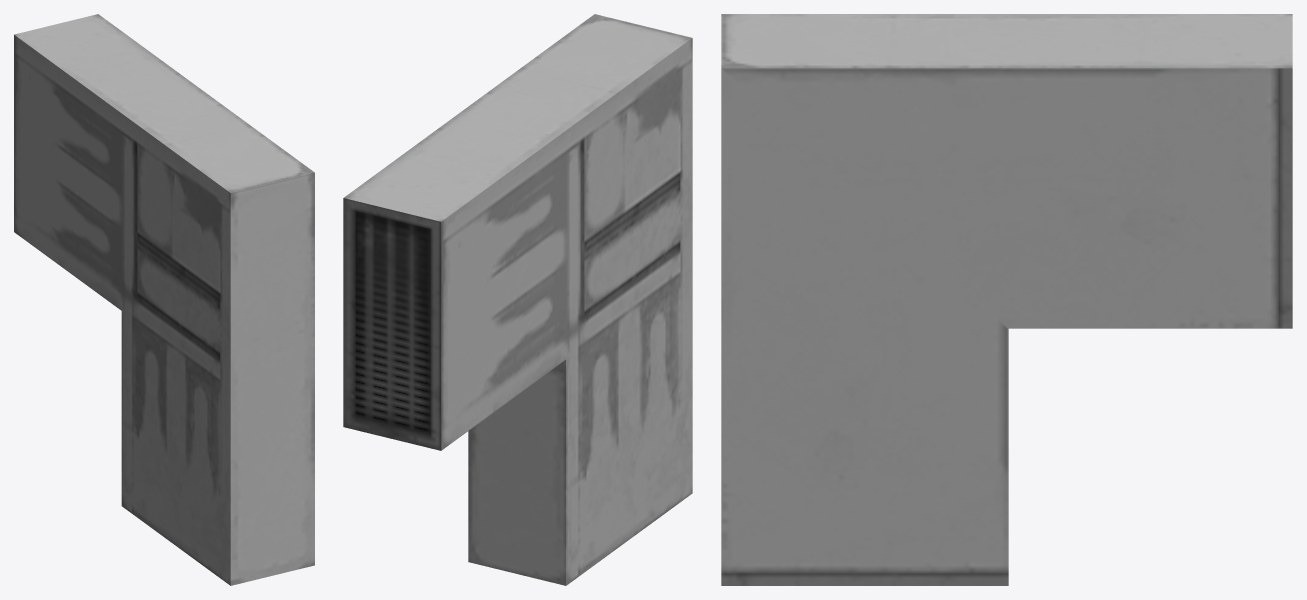
Rendered from CP_Ventilation_Pipe_Angle_01.fbx.
3 renders of one model, left to right at view 1: azimuth 30°, elevation 25°; view 2: azimuth 150°, elevation 25°; view 3: azimuth 270°, elevation 25°, orthographic. The views are drawn at different scales.
Parts seen in each view (by area): view 1: CP_Ventilation_Pipe_Angle_01; view 2: CP_Ventilation_Pipe_Angle_01; view 3: CP_Ventilation_Pipe_Angle_01.
Part boxes in pixels (x1,y1,x2,y2): CP_Ventilation_Pipe_Angle_01: (14, 14, 314, 585); CP_Ventilation_Pipe_Angle_01: (343, 14, 692, 585); CP_Ventilation_Pipe_Angle_01: (721, 14, 1292, 585).
Bounding box in the file's own units: 15 × 66.79 × 66.79.
